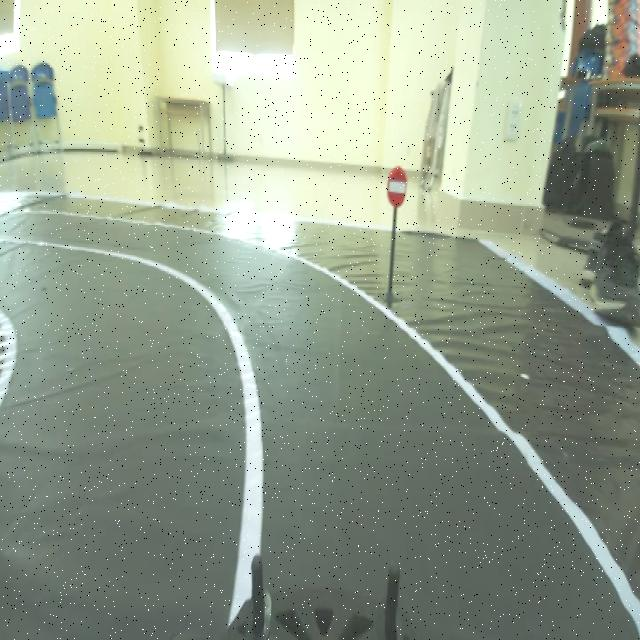no_entry: (384, 151, 418, 220)
